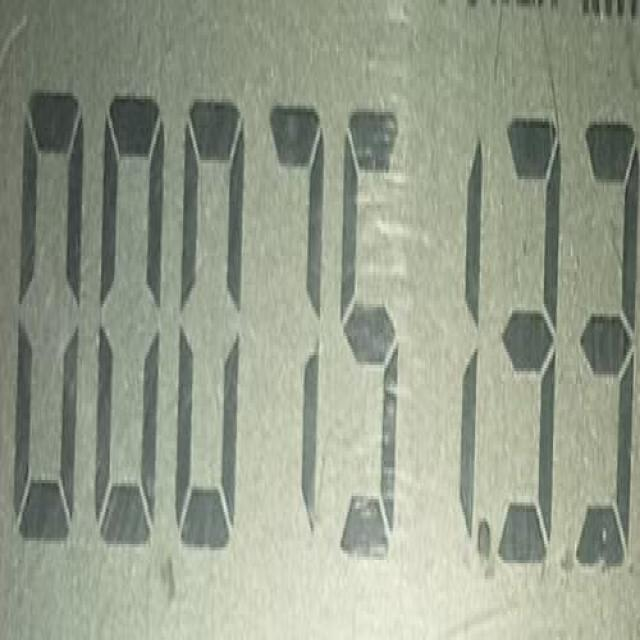.: (475, 511, 493, 565)
0: (91, 80, 172, 574), (172, 88, 250, 575), (14, 77, 86, 560)
1: (451, 107, 489, 551)
3: (569, 107, 640, 584), (497, 104, 565, 590)
5: (333, 93, 412, 570)
7: (263, 88, 330, 560)
